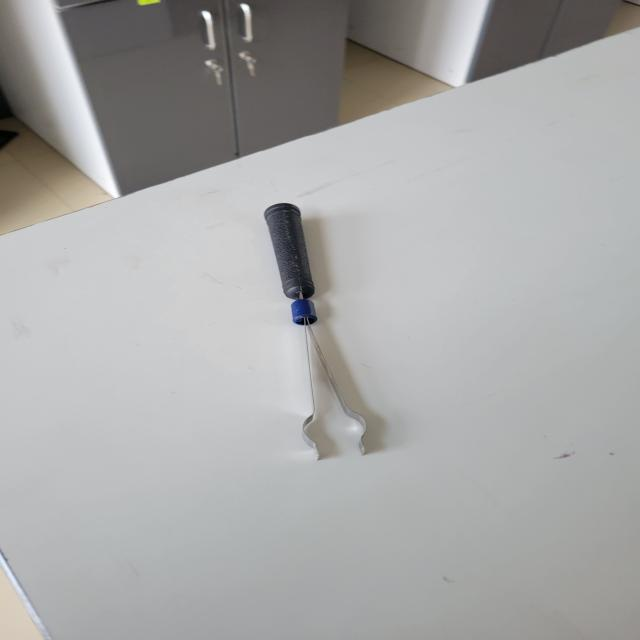TestTube_Holder: (238, 154, 431, 488)
